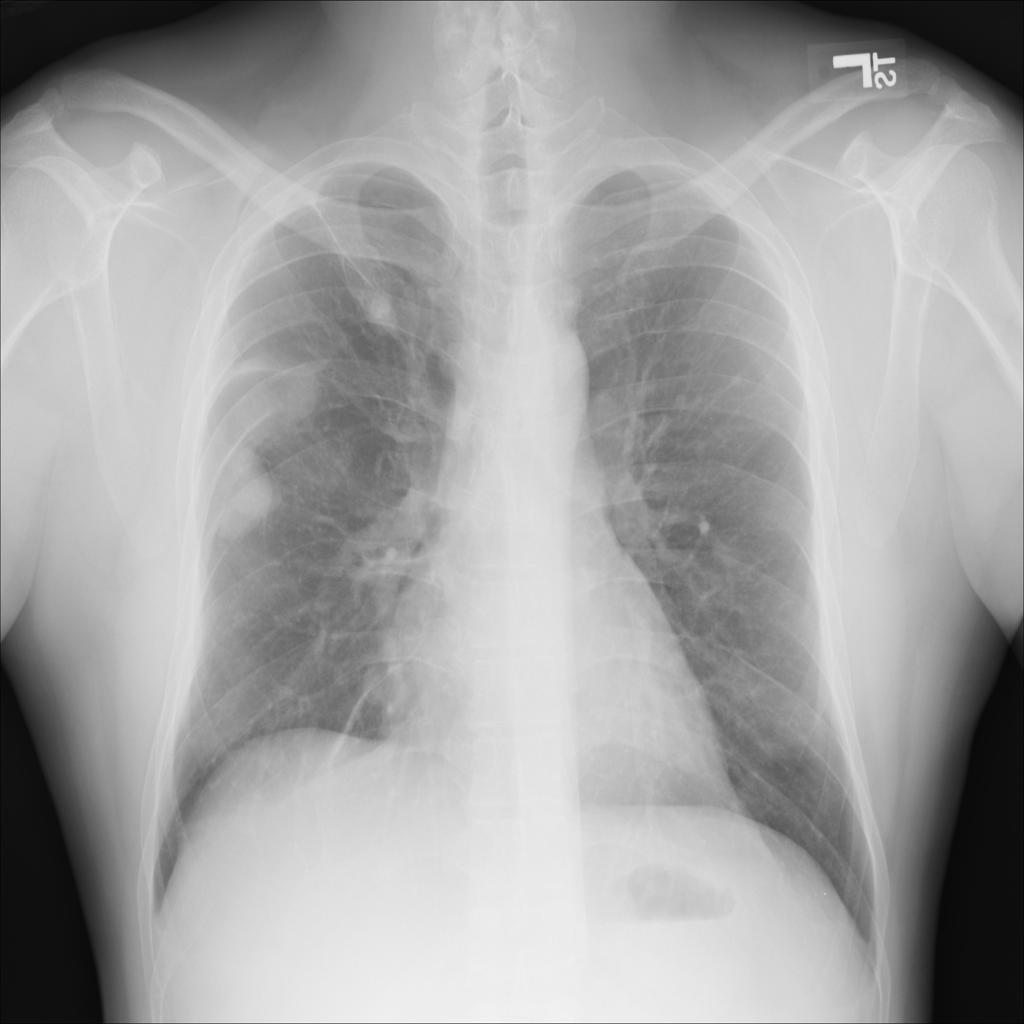nodule: (217, 334, 334, 451), (194, 441, 290, 552), (353, 639, 419, 725), (351, 276, 415, 349)
